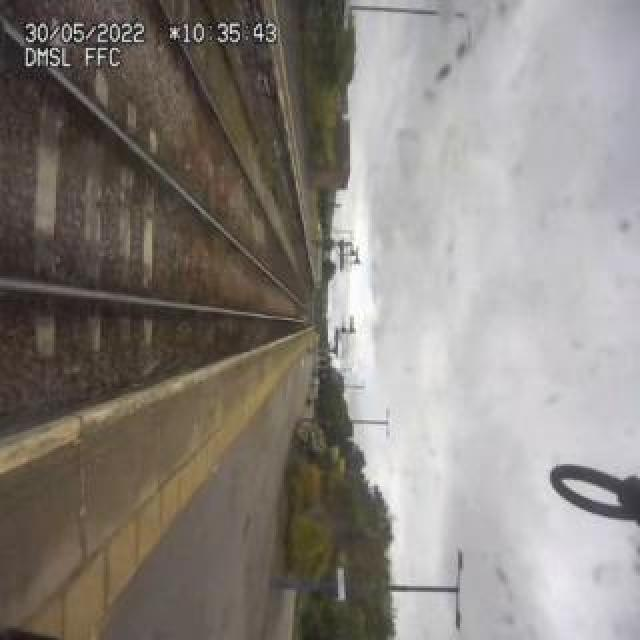Station-Lights-Off: (456, 545, 466, 577)
